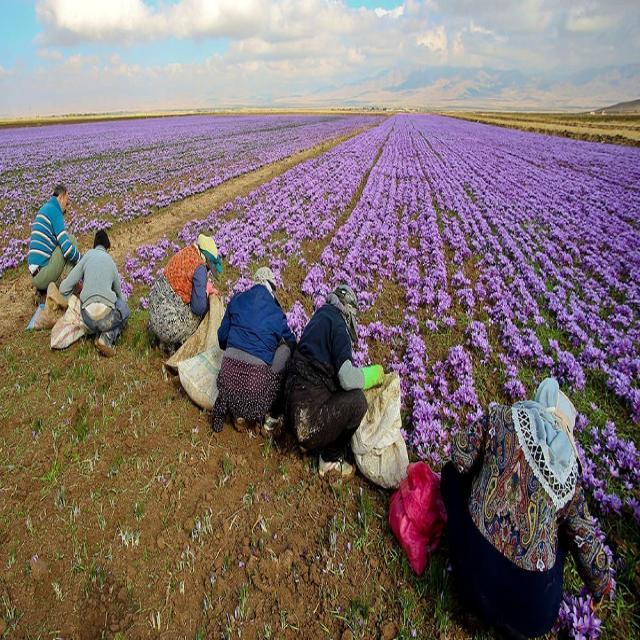Flower: (2, 129, 640, 576), (562, 590, 605, 640)
